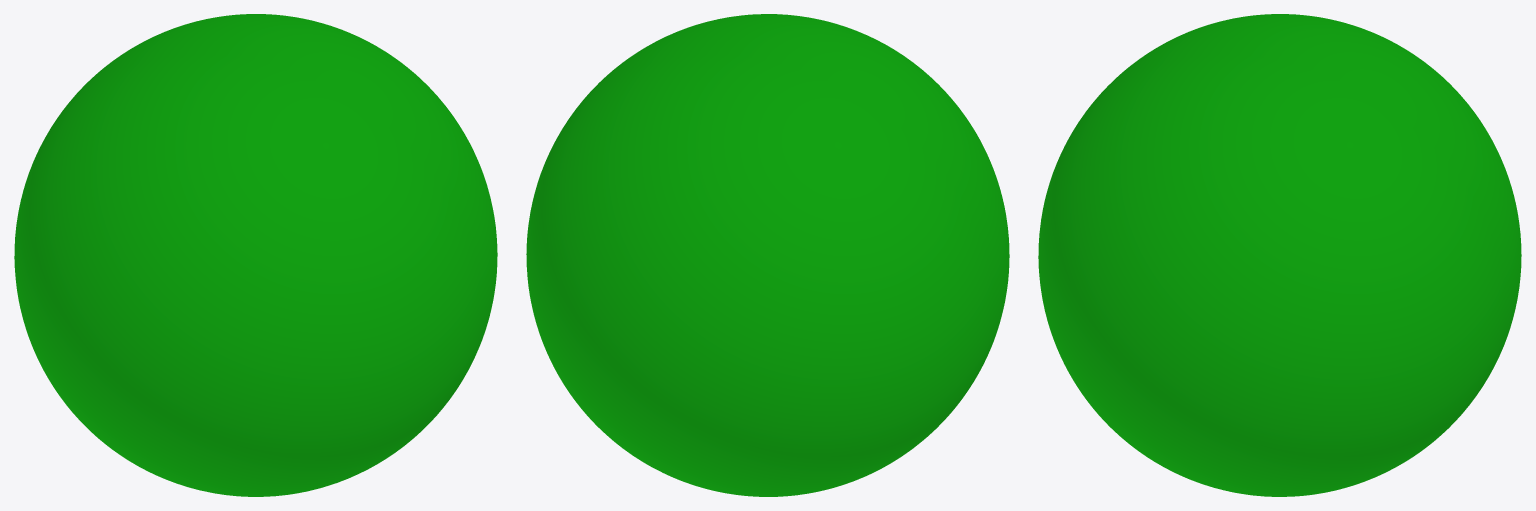
Rendered from sphere_Hofk.gltf.
3 renders of one model, left to right at view 1: azimuth 30°, elevation 25°; view 2: azimuth 150°, elevation 25°; view 3: azimuth 270°, elevation 25°, orthographic.
Size of the model in its own units: 2 by 2 by 2.
